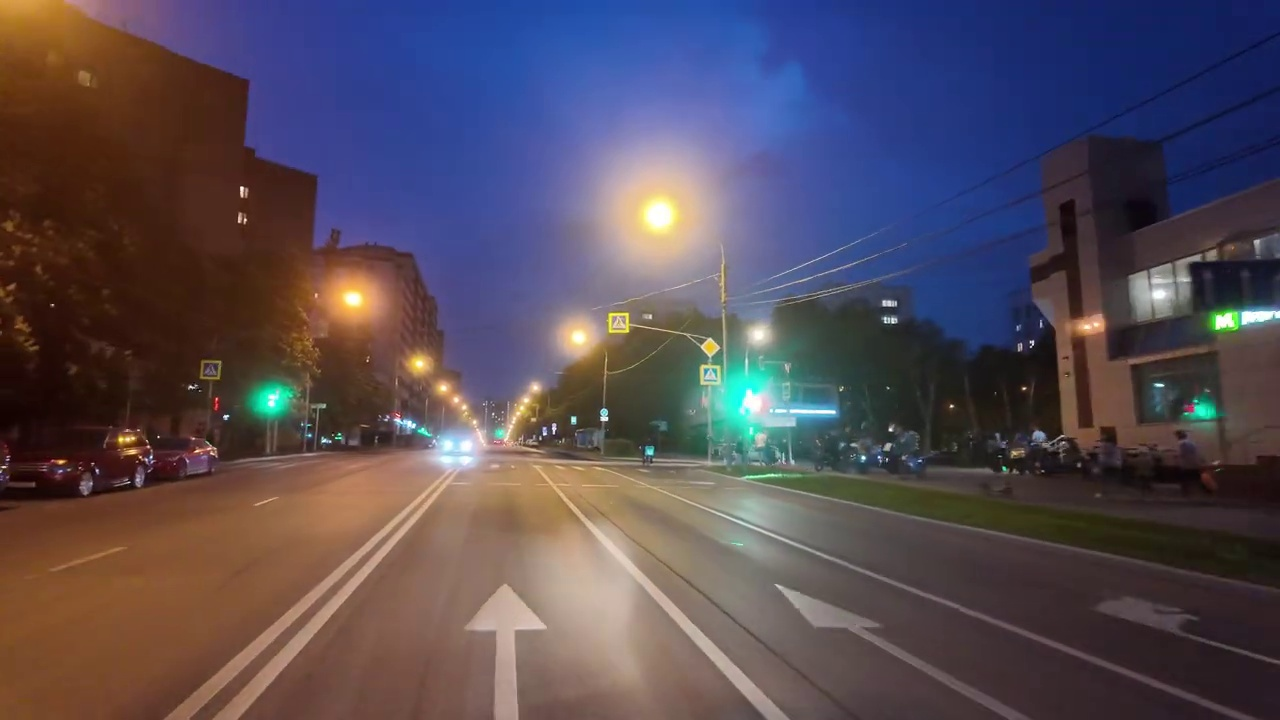acesa: (632, 189, 686, 245), (332, 281, 374, 320), (561, 319, 596, 354), (403, 350, 435, 379), (743, 322, 773, 347)
